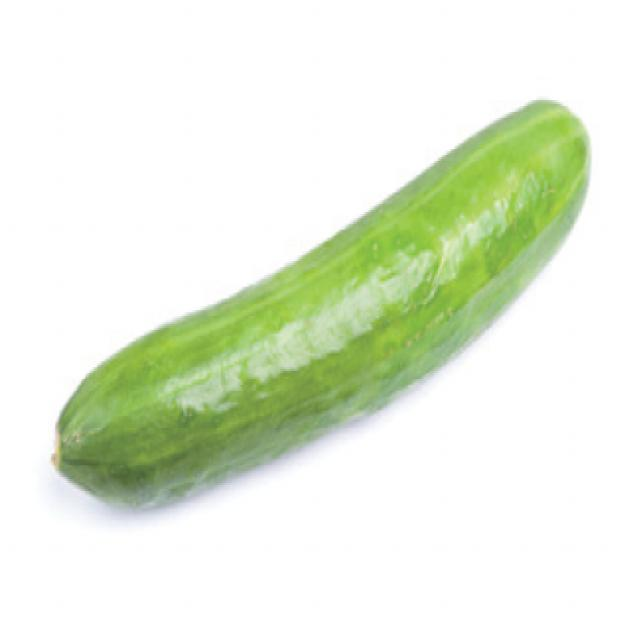cucumber: (45, 87, 614, 527)
